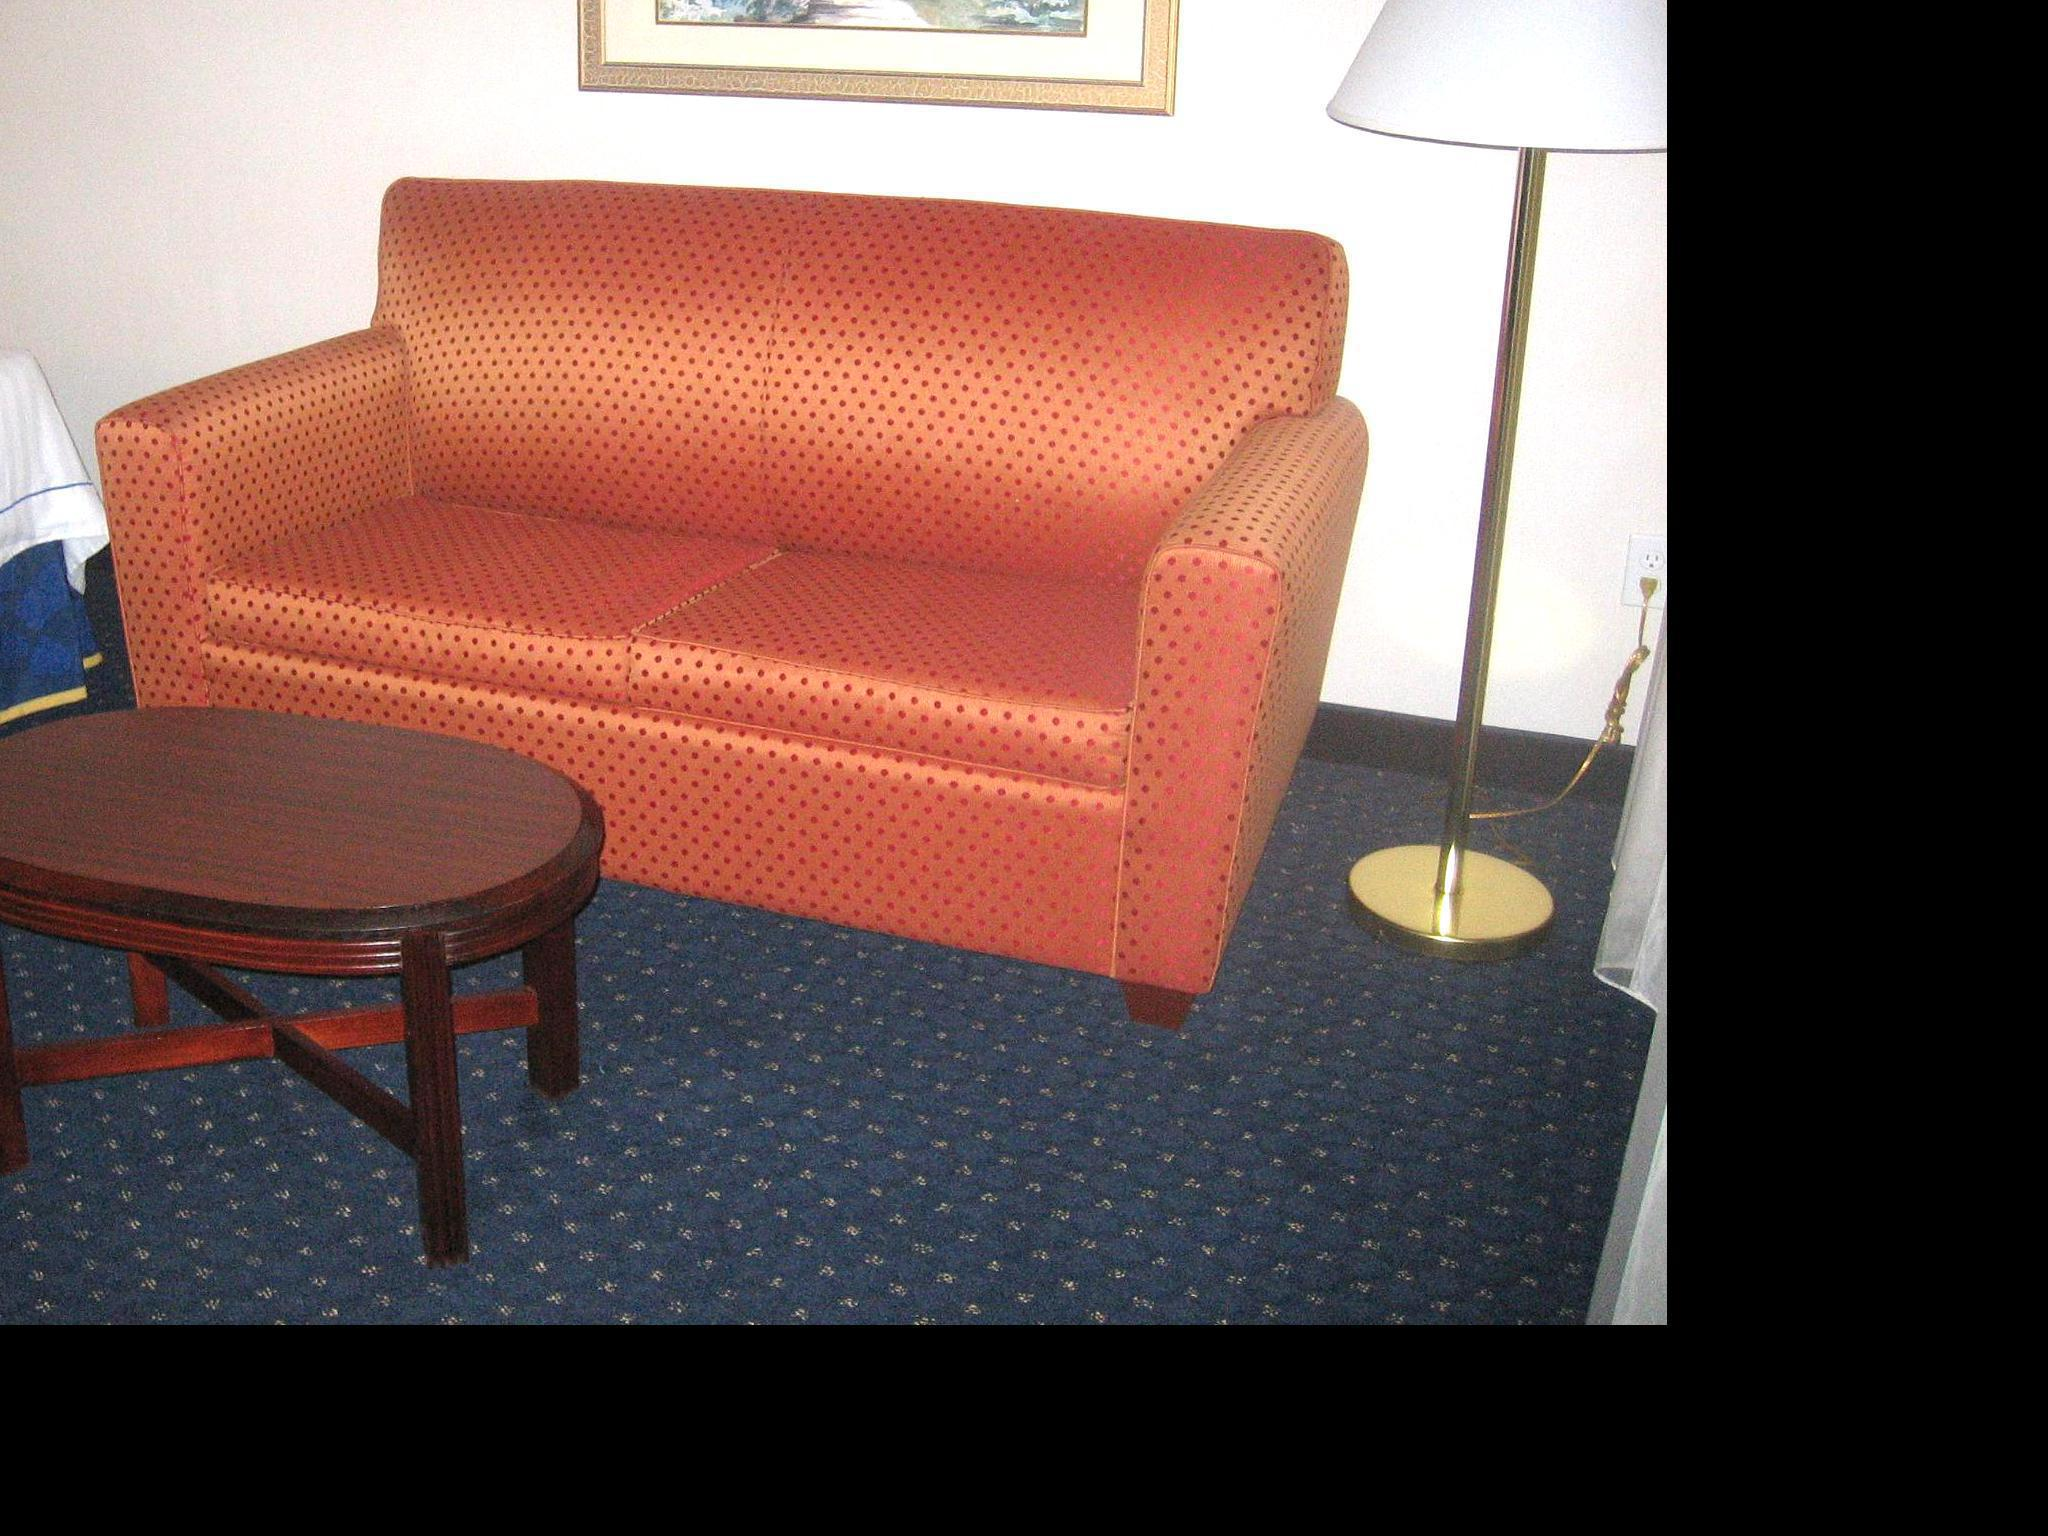Otro Obstaculo: (1326, 0, 1646, 983)
